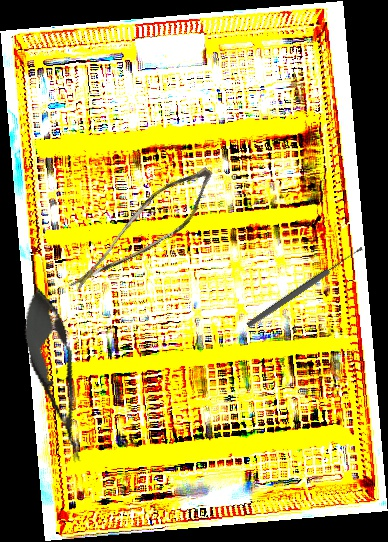Micro Scissor: (68, 145, 222, 321), (11, 279, 100, 470)
Surgical Spoon: (245, 245, 365, 329)
